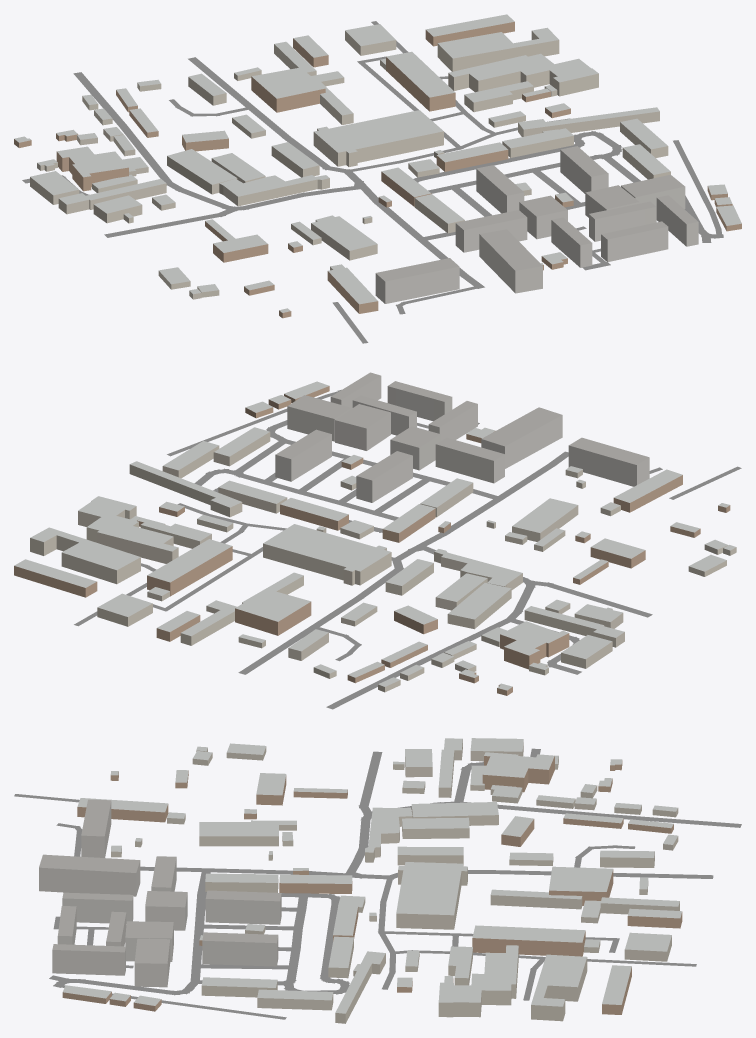
File: bolak_-6_-7.glb
3 views of the same model, one above another, from view 1: azimuth 30°, elevation 25°; view 2: azimuth 150°, elevation 25°; view 3: azimuth 270°, elevation 25° (orthographic). The views are drawn at different scales.
Parts seen in each view (by area): view 1: Tom_Shifer, Devor_Suvoq-col, Devor_Panel-col, Yol_Mahalla, Devor_Gisht-col, Tom_Tekis; view 2: Tom_Shifer, Devor_Suvoq-col, Devor_Panel-col, Yol_Mahalla, Devor_Gisht-col, Tom_Tekis; view 3: Tom_Shifer, Devor_Suvoq-col, Yol_Mahalla, Devor_Panel-col, Devor_Gisht-col, Tom_Tekis.
Boxes of the visible parts, bbox=[...] form: Tom_Shifer: bbox=[14, 14, 741, 312]; Devor_Suvoq-col: bbox=[30, 31, 670, 299]; Devor_Panel-col: bbox=[375, 150, 698, 303]; Yol_Mahalla: bbox=[22, 21, 723, 343]; Devor_Gisht-col: bbox=[14, 21, 741, 318]; Tom_Tekis: bbox=[376, 146, 698, 281]; Tom_Shifer: bbox=[14, 381, 736, 690]; Devor_Suvoq-col: bbox=[30, 432, 736, 692]; Devor_Panel-col: bbox=[275, 376, 649, 502]; Yol_Mahalla: bbox=[74, 389, 741, 709]; Devor_Gisht-col: bbox=[14, 386, 730, 695]; Tom_Tekis: bbox=[276, 372, 648, 480]; Tom_Shifer: bbox=[63, 738, 681, 1013]; Devor_Suvoq-col: bbox=[111, 739, 679, 1023]; Yol_Mahalla: bbox=[14, 748, 741, 1019]; Devor_Panel-col: bbox=[39, 802, 281, 987]; Devor_Gisht-col: bbox=[62, 755, 682, 1014]; Tom_Tekis: bbox=[39, 799, 281, 963].
Bounding box in the file's own units: 423 × 16.8 × 472.
